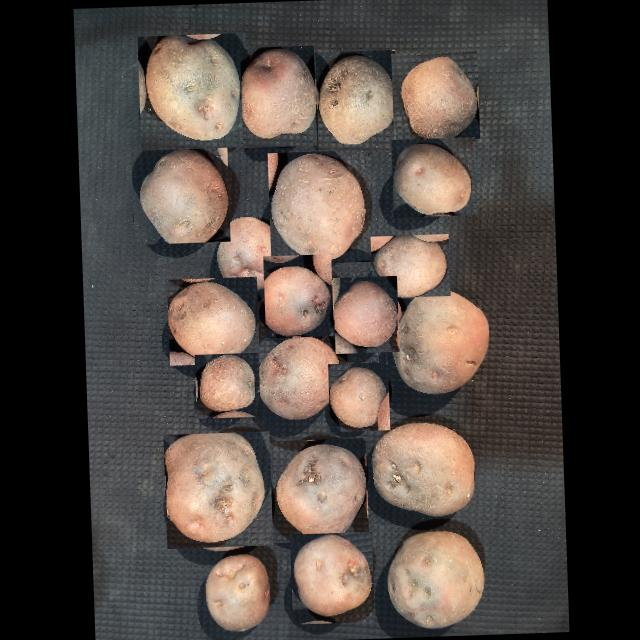Defected potato: (136, 32, 248, 150), (389, 282, 497, 398), (366, 415, 478, 522), (266, 150, 370, 264), (382, 526, 488, 632), (314, 49, 398, 154), (369, 234, 449, 298)
Diseased-fungal potato: (162, 431, 272, 548), (266, 438, 368, 542), (130, 148, 229, 245), (250, 330, 344, 420), (165, 276, 258, 366), (389, 50, 478, 142), (238, 45, 316, 148), (288, 532, 374, 624), (389, 136, 476, 218), (198, 554, 279, 636), (262, 254, 332, 338), (210, 214, 283, 294), (332, 276, 398, 354), (193, 352, 259, 418), (326, 362, 388, 432)
